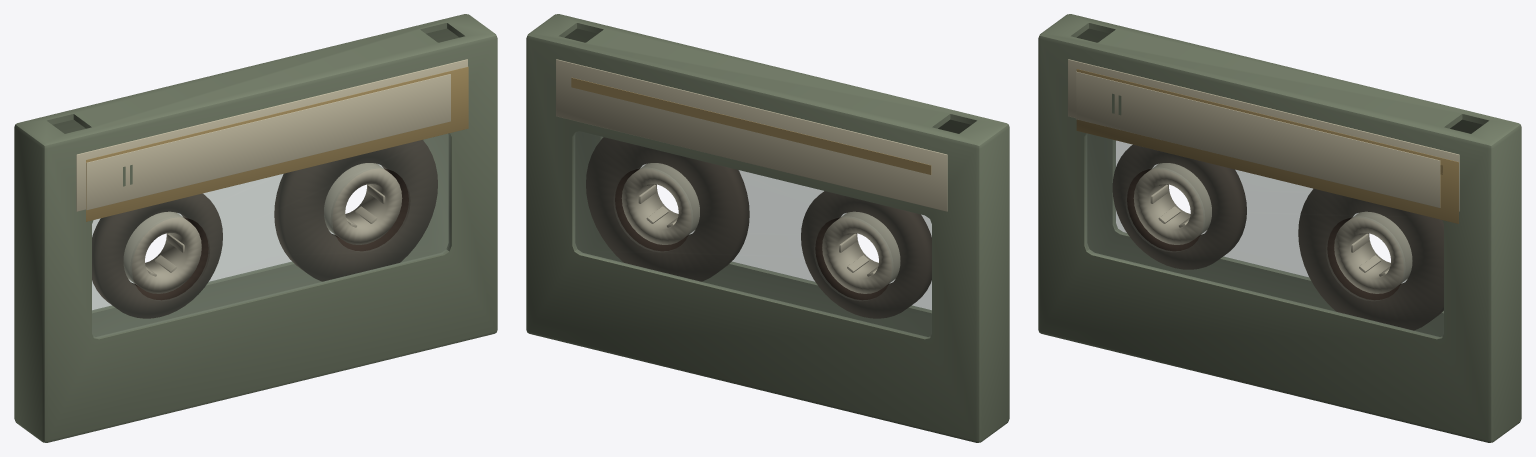
Rendered from A02_Source02.fbx.
The picture shows the model from 3 angles, left to right: view 1: azimuth 30°, elevation 25°; view 2: azimuth 150°, elevation 25°; view 3: azimuth 330°, elevation 25°; orthographic projection.
Visible parts, largest first — view 1: A02_Source02_Shell, A02_Source02_Window_Front, A02_Source02_ReplacementLabel, A02_Source02_Winding_R, A02_Source02_Winding_L, A02_Source02_OldLabelEdge, A02_Source02_Window_Back, A02_Source02_Hub_L, A02_Source02_Hub_R, A02_Source02_Label.001; view 2: A02_Source02_Shell, A02_Source02_Window_Back, A02_Source02_Label, A02_Source02_Winding_R, A02_Source02_Winding_L, A02_Source02_Window_Front, A02_Source02_Hub_L, A02_Source02_Hub_R, A02_Source02_Accent; view 3: A02_Source02_Shell, A02_Source02_Window_Front, A02_Source02_ReplacementLabel, A02_Source02_Winding_R, A02_Source02_Winding_L, A02_Source02_OldLabelEdge, A02_Source02_Window_Back, A02_Source02_Hub_R, A02_Source02_Hub_L, A02_Source02_Label.001.
Boxes of the visible parts, x1=… form: A02_Source02_Shell: x1=14, y1=14, x2=497, y2=442; A02_Source02_Window_Front: x1=92, y1=134, x2=450, y2=338; A02_Source02_ReplacementLabel: x1=86, y1=74, x2=450, y2=210; A02_Source02_Winding_R: x1=274, y1=140, x2=437, y2=281; A02_Source02_Winding_L: x1=92, y1=193, x2=222, y2=318; A02_Source02_OldLabelEdge: x1=86, y1=66, x2=468, y2=221; A02_Source02_Window_Back: x1=92, y1=165, x2=381, y2=310; A02_Source02_Hub_L: x1=123, y1=211, x2=201, y2=293; A02_Source02_Hub_R: x1=324, y1=163, x2=402, y2=244; A02_Source02_Label.001: x1=76, y1=59, x2=467, y2=211; A02_Source02_Shell: x1=526, y1=14, x2=1009, y2=442; A02_Source02_Window_Back: x1=573, y1=131, x2=931, y2=338; A02_Source02_Label: x1=556, y1=59, x2=947, y2=211; A02_Source02_Winding_R: x1=586, y1=137, x2=749, y2=281; A02_Source02_Winding_L: x1=801, y1=191, x2=931, y2=318; A02_Source02_Window_Front: x1=642, y1=165, x2=931, y2=310; A02_Source02_Hub_L: x1=822, y1=211, x2=900, y2=293; A02_Source02_Hub_R: x1=621, y1=163, x2=699, y2=244; A02_Source02_Accent: x1=571, y1=77, x2=931, y2=174; A02_Source02_Shell: x1=1038, y1=14, x2=1521, y2=442; A02_Source02_Window_Front: x1=1085, y1=134, x2=1443, y2=338; A02_Source02_ReplacementLabel: x1=1076, y1=71, x2=1440, y2=207; A02_Source02_Winding_R: x1=1298, y1=188, x2=1443, y2=330; A02_Source02_Winding_L: x1=1112, y1=144, x2=1246, y2=269; A02_Source02_OldLabelEdge: x1=1076, y1=69, x2=1458, y2=223; A02_Source02_Window_Back: x1=1115, y1=141, x2=1405, y2=282; A02_Source02_Hub_R: x1=1334, y1=211, x2=1412, y2=293; A02_Source02_Hub_L: x1=1133, y1=163, x2=1211, y2=244; A02_Source02_Label.001: x1=1068, y1=59, x2=1459, y2=211.
Size of the model in its own units: 10 by 6.3 by 1.31.
